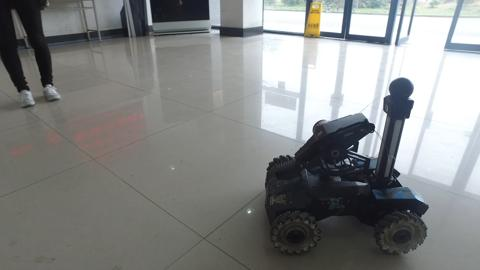chariot: (262, 76, 430, 257)
